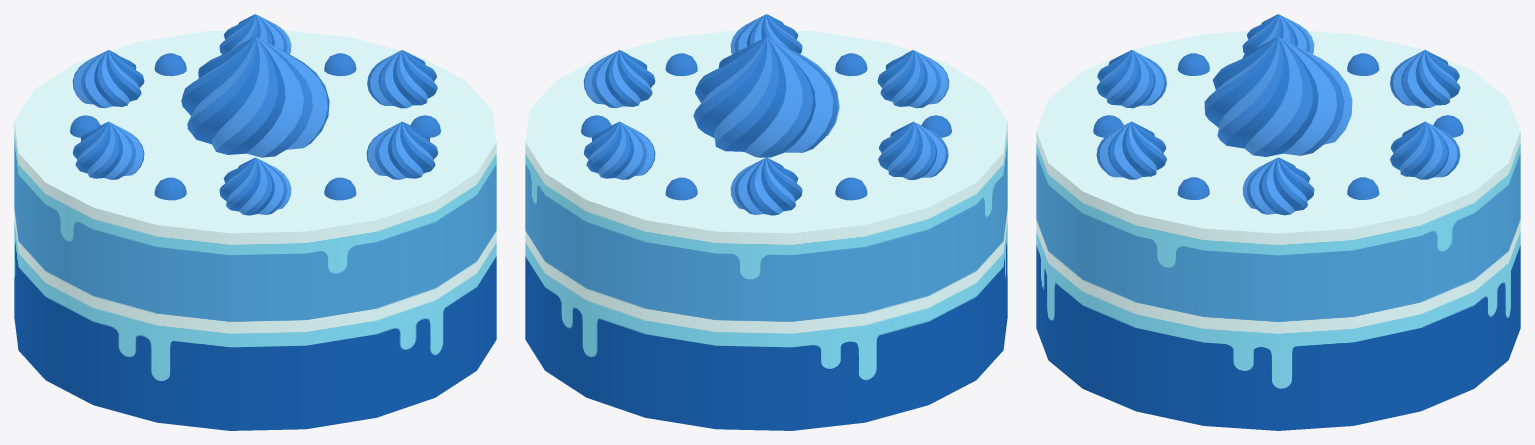
File: cake_freeze-transformed.glb
3 renders of one model, left to right at view 1: azimuth 30°, elevation 25°; view 2: azimuth 150°, elevation 25°; view 3: azimuth 270°, elevation 25°, orthographic.
Parts seen in each view (by area): view 1: Whole_Oceon_Blue_Cream_0; view 2: Whole_Oceon_Blue_Cream_0; view 3: Whole_Oceon_Blue_Cream_0.
Part boxes in pixels (<box>): Whole_Oceon_Blue_Cream_0: <box>14,14,496,430</box>; Whole_Oceon_Blue_Cream_0: <box>525,14,1007,430</box>; Whole_Oceon_Blue_Cream_0: <box>1036,14,1520,430</box>.
Size of the model in its own units: 0.4 by 0.2662 by 0.4.
1 material, 1 textured.
